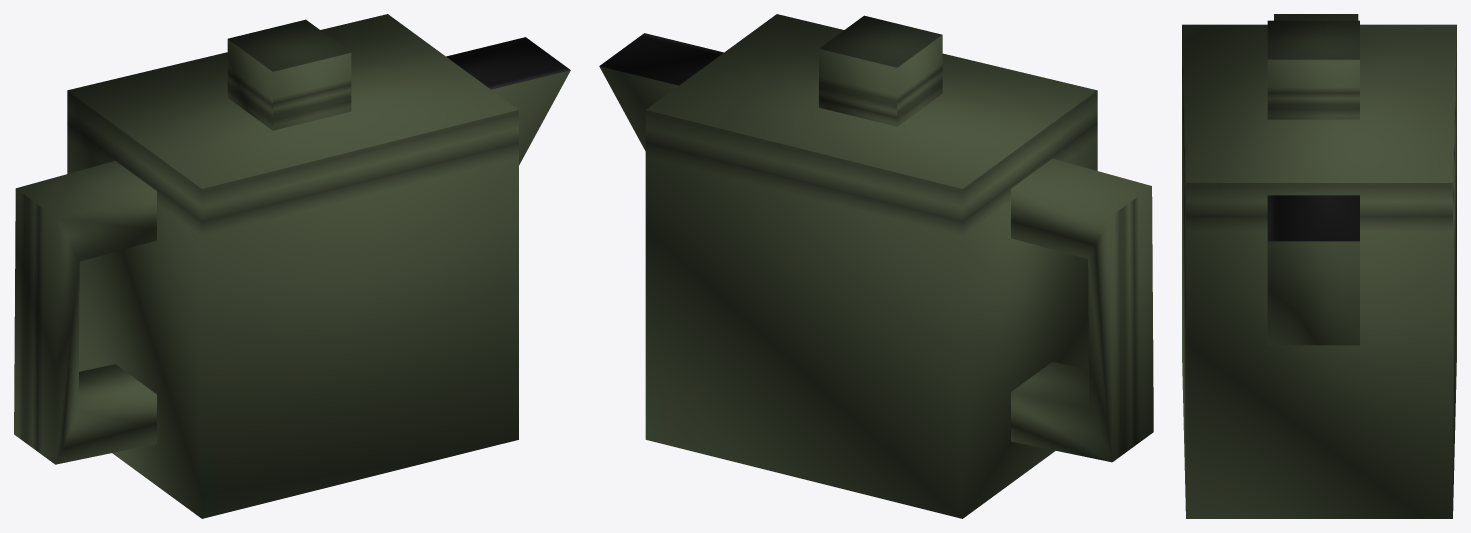
The model's file is Kettle.fbx.
3 renders of one model, left to right at view 1: azimuth 30°, elevation 25°; view 2: azimuth 150°, elevation 25°; view 3: azimuth 270°, elevation 25°, orthographic.
Parts seen in each view (by area): view 1: Maya_File_Assets:TexturedAssetsCurrent:kettle_01; view 2: Maya_File_Assets:TexturedAssetsCurrent:kettle_01; view 3: Maya_File_Assets:TexturedAssetsCurrent:kettle_01.
Boxes of the visible parts, bbox=[...] form: Maya_File_Assets:TexturedAssetsCurrent:kettle_01: bbox=[14, 14, 570, 518]; Maya_File_Assets:TexturedAssetsCurrent:kettle_01: bbox=[599, 14, 1153, 518]; Maya_File_Assets:TexturedAssetsCurrent:kettle_01: bbox=[1182, 14, 1456, 518].
Bounding box in the file's own units: 0.2675 × 0.1939 × 0.1219.
